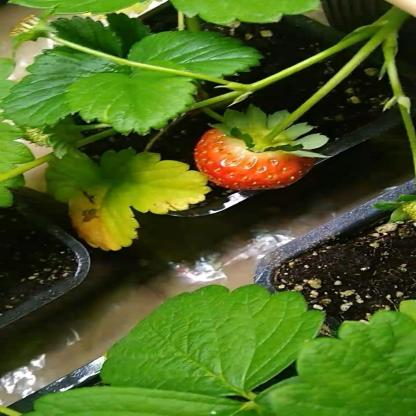ripe: (192, 125, 310, 190)
